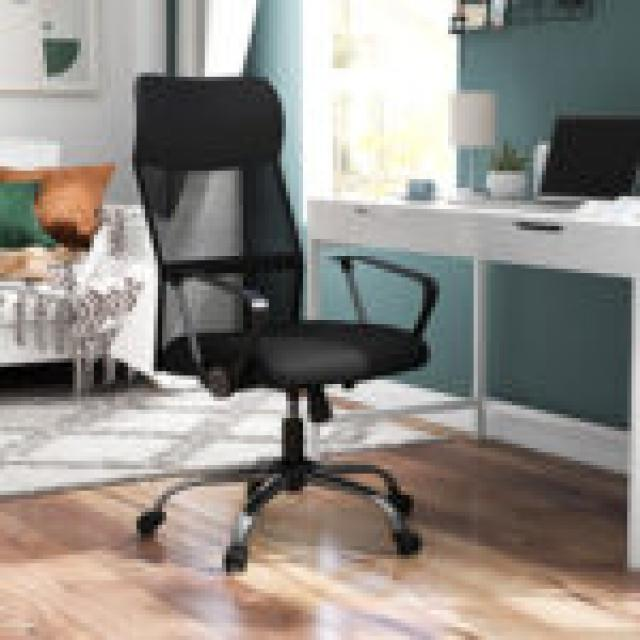chair: (108, 45, 458, 591)
